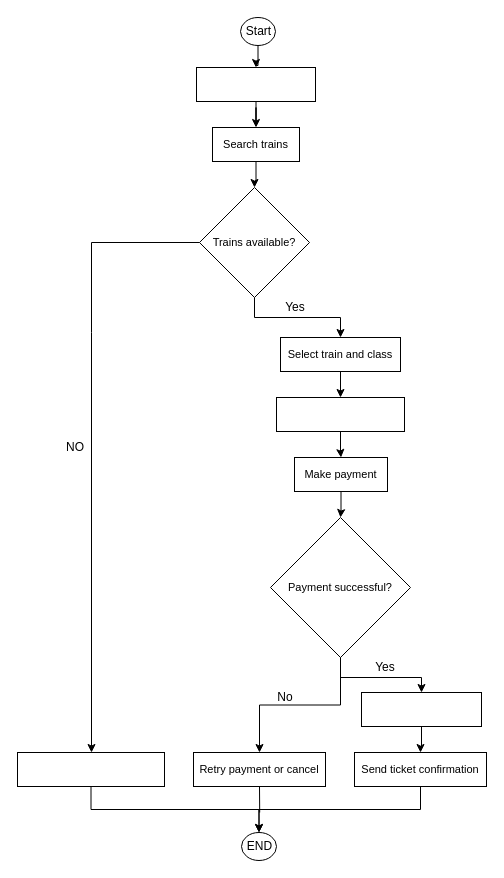
This 504x878 diagram has some shape labels left out. The centre of each missing label's shape, as x and y in pixels:
Display unavailable message: pixel 90 769
Enter journey details: pixel 256 84
Enter passenger details: pixel 340 414
Generate reservation: pixel 421 709
